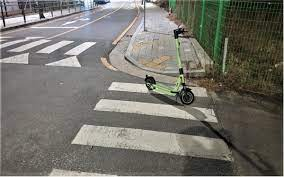kick_board: (144, 27, 193, 104)
kick_body: (154, 82, 175, 95)
kick_handler: (172, 28, 188, 37)
kick_neck: (174, 40, 185, 83)
kick_wheel: (179, 89, 193, 103), (145, 75, 154, 91)
